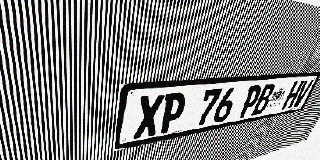6: (211, 87, 239, 124)
7: (194, 89, 222, 127)
B: (251, 83, 277, 116)
H: (281, 81, 304, 110)
P: (157, 92, 188, 134), (237, 85, 264, 118)
V: (291, 80, 314, 108)
X: (133, 94, 165, 139)
